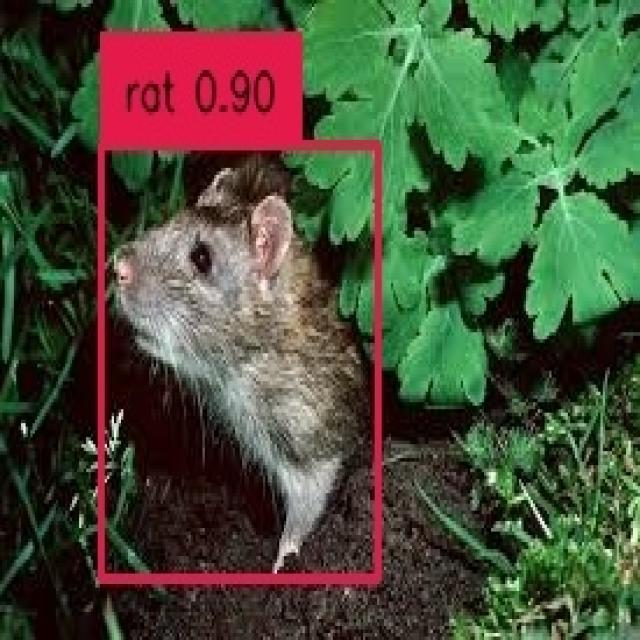rat: (98, 140, 374, 573)
